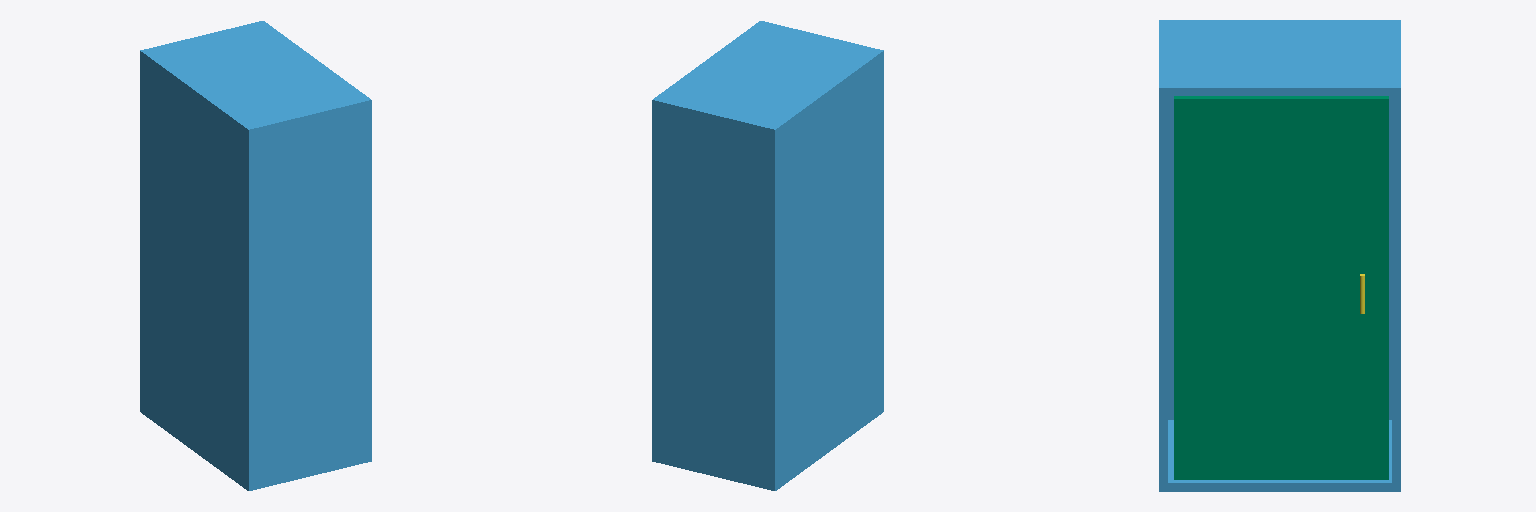
URDF robot description (my_cabinet):
<?xml version="1.0" ?>
<robot name="my_cabinet">
	<link name="world"/>
	<joint name="virtual_joint" type="fixed">
		<parent link="world"/>
		<child link="base_cabinet_link"/>
		<origin xyz="0.0 0.0 0.0" rpy="0.0 0.0 0.0"/>
	</joint>
	<link name="base_cabinet_link">
		<visual>
			<origin xyz="0.0 -0.0025 -0.4115095573564992" rpy="0.0 0.0 0.0"/>
			<geometry>
				<box size="0.3 0.45717307904553023 0.018"/>
			</geometry>
		</visual>
		<collision name="base_cabinet_link_collision_0">
			<origin xyz="0.0 -0.0025 -0.4115095573564992" rpy="0.0 0.0 0.0"/>
			<geometry>
				<box size="0.3 0.45717307904553023 0.018"/>
			</geometry>
		</collision>
		<visual>
			<origin xyz="0.0 0.21708653952276513 0.0" rpy="0.0 0.0 0.0"/>
			<geometry>
				<box size="0.3 0.018 0.8410191147129984"/>
			</geometry>
		</visual>
		<collision name="base_cabinet_link_collision_1">
			<origin xyz="0.0 0.21708653952276513 0.0" rpy="0.0 0.0 0.0"/>
			<geometry>
				<box size="0.3 0.018 0.8410191147129984"/>
			</geometry>
		</collision>
		<visual>
			<origin xyz="0.0 -0.22208653952276514 0.0" rpy="0.0 0.0 0.0"/>
			<geometry>
				<box size="0.3 0.018 0.8410191147129984"/>
			</geometry>
		</visual>
		<collision name="base_cabinet_link_collision_2">
			<origin xyz="0.0 -0.22208653952276514 0.0" rpy="0.0 0.0 0.0"/>
			<geometry>
				<box size="0.3 0.018 0.8410191147129984"/>
			</geometry>
		</collision>
		<visual>
			<origin xyz="0.0 -0.0025 0.4115095573564992" rpy="0.0 0.0 0.0"/>
			<geometry>
				<box size="0.3 0.45717307904553023 0.018"/>
			</geometry>
		</visual>
		<collision name="base_cabinet_link_collision_3">
			<origin xyz="0.0 -0.0025 0.4115095573564992" rpy="0.0 0.0 0.0"/>
			<geometry>
				<box size="0.3 0.45717307904553023 0.018"/>
			</geometry>
		</collision>
		<visual>
			<origin xyz="-0.141 -0.0025 0.0" rpy="0.0 0.0 0.0"/>
			<geometry>
				<box size="0.018 0.45717307904553023 0.8410191147129984"/>
			</geometry>
		</visual>
		<collision name="base_cabinet_link_collision_4">
			<origin xyz="-0.141 -0.0025 0.0" rpy="0.0 0.0 0.0"/>
			<geometry>
				<box size="0.018 0.45717307904553023 0.8410191147129984"/>
			</geometry>
		</collision>
		<inertial>
			<mass value="0.200000"/>
			<inertia ixx="0.015272" ixy="0.0" ixz="0.0" iyy="0.013289" iyz="0.0" izz="0.004983"/>
		</inertial>
	</link>
	<link name="door_link">
		<visual>
			<origin xyz="0.0 -0.20308653952276512 0.0"/>
			<geometry>
				<box size="0.018 0.40617307904553024 0.7950191147129984"/>
			</geometry>
		</visual>
		<collision name="door_link_collision">
			<origin xyz="0.0 -0.20308653952276512 0.0"/>
			<geometry>
				<box size="0.018 0.40617307904553024 0.7950191147129984"/>
			</geometry>
		</collision>
		<inertial>
			<mass value="0.200000"/>
			<inertia ixx="0.013284" ixy="0.0" ixz="0.0" iyy="0.010540" iyz="0.0" izz="0.002755"/>
		</inertial>
	</link>
	<joint name="door_joint" type="revolute">
		<origin xyz="0.141 -0.20308653952276512 0.0" rpy="0.000000 -0.000000 3.141593"/>
		<axis xyz="0 0 1"/>
		<parent link="base_cabinet_link"/>
		<child link="door_link"/>
		<limit effort="50" lower="-1.658062789394613" upper="0" velocity="10"/>
		<dynamics friction="3.5" damping="3.5"/>
	</joint>
	<link name="handle_link">
		<visual>
			<origin xyz="0.0 0.0 0.0" rpy="0.0 0.0 0.0"/>
			<geometry>
				<cylinder length="0.08" radius="0.005"/>
			</geometry>
		</visual>
		<collision name="handle_link_collision_0">
			<origin xyz="0.0 0.0 0.0" rpy="0.0 0.0 0.0"/>
			<geometry>
				<cylinder length="0.08" radius="0.005"/>
			</geometry>
		</collision>
		<visual>
			<origin xyz="-0.01 0.0 0.02" rpy="0.0 1.5707963267948966 0.0"/>
			<geometry>
				<cylinder length="0.02" radius="0.003"/>
			</geometry>
		</visual>
		<collision name="handle_link_collision_1">
			<origin xyz="-0.01 0.0 0.02" rpy="0.0 1.5707963267948966 0.0"/>
			<geometry>
				<cylinder length="0.01" radius="0.003"/>
			</geometry>
		</collision>
		<visual>
			<origin xyz="-0.01 0.0 -0.02" rpy="0.0 1.5707963267948966 0.0"/>
			<geometry>
				<cylinder length="0.02" radius="0.003"/>
			</geometry>
		</visual>
		<collision name="handle_link_collision_2">
			<origin xyz="-0.01 0.0 -0.02" rpy="0.0 1.5707963267948966 0.0"/>
			<geometry>
				<cylinder length="0.02" radius="0.003"/>
			</geometry>
		</collision>
		<inertial>
			<mass value="0.050000"/>
			<inertia ixx="0.000027" ixy="0.0" ixz="0.0" iyy="0.000029" iyz="0.0" izz="0.000003"/>
		</inertial>
	</link>
	<joint name="handle_joint" type="fixed">
		<origin xyz="-0.028999999999999998 -0.35617307904553025 0.0" rpy="0.000000 -0.000000 3.141593"/>
		<parent link="door_link"/>
		<child link="handle_link"/>
	</joint>
	<gazebo reference="base_cabinet_link">
		<sensor name="main_sensor" type="contact">
			<selfCollide>true</selfCollide>
			<alwaysOn>true</alwaysOn>
			<updateRate>5.0</updateRate>
			<material>Gazebo/Red</material>
			<contact>
				<collision>base_cabinet_link_collision_0_collision</collision>
				<collision>base_cabinet_link_collision_1_collision</collision>
				<collision>base_cabinet_link_collision_2_collision</collision>
				<collision>base_cabinet_link_collision_3_collision</collision>
				<collision>base_cabinet_link_collision_4_collision</collision>
			</contact>
			<plugin name="gazebo_ros_bumper_controller" filename="libgazebo_ros_bumper.so">
				<bumperTopicName>/contact</bumperTopicName>
				<frameName>world</frameName>
			</plugin>
		</sensor>
	</gazebo>
	<gazebo reference="door_link">
		<sensor name="main_sensor" type="contact">
			<selfCollide>true</selfCollide>
			<alwaysOn>true</alwaysOn>
			<updateRate>5.0</updateRate>
			<material>Gazebo/Red</material>
			<contact>
				<collision>door_link_collision_collision</collision>
			</contact>
			<plugin name="gazebo_ros_bumper_controller" filename="libgazebo_ros_bumper.so">
				<bumperTopicName>/contact_door</bumperTopicName>
				<frameName>contact_door</frameName>
			</plugin>
		</sensor>
	</gazebo>
	<gazebo reference="door_link">
		<mu>3.0</mu>
		<mu2>3.0</mu2>
		<kp>10000000</kp>
		<kd>100</kd>
	</gazebo>
</robot>

--- Render facts (derived) ---
Views: 3 orthographic renders of the robot side by side, from view 1: azimuth 30°, elevation 25°; view 2: azimuth 150°, elevation 25°; view 3: azimuth 270°, elevation 25°.
Model my_cabinet with 4 links and 3 joints (1 revolute, 2 fixed), rooted at world, posed all joints at 0.
Visible links, largest first — view 1: base_cabinet_link; view 2: base_cabinet_link; view 3: door_link, base_cabinet_link.
Boxes of the visible links, x1,y1,x2,y2 form: base_cabinet_link: (140, 21, 371, 490); base_cabinet_link: (652, 21, 883, 490); door_link: (1174, 96, 1388, 479); base_cabinet_link: (1159, 20, 1400, 491).
Size in the robot's own frame: 0.325 by 0.4572 by 0.841 metres.
Geometry: primitives only (box / cylinder / sphere), no mesh files.
